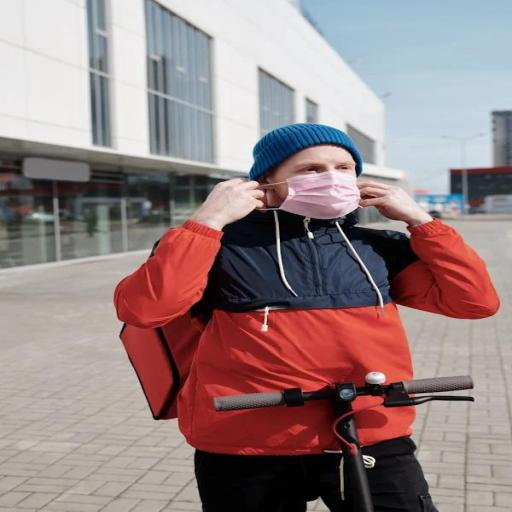mask: (239, 136, 393, 230)
